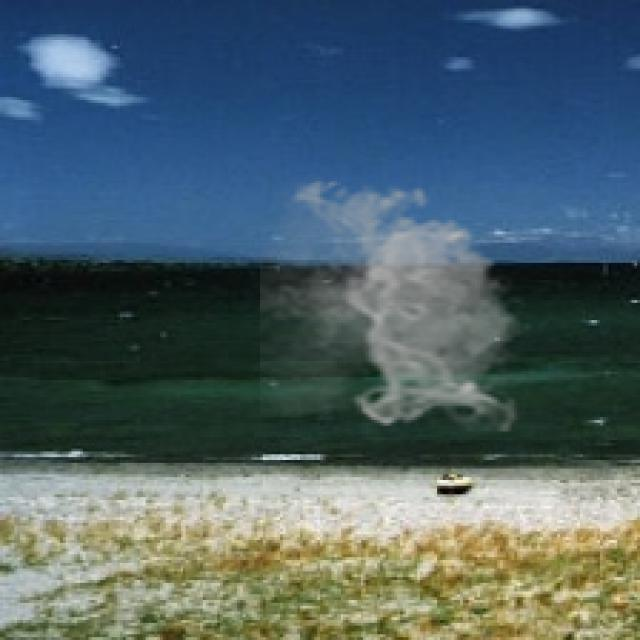smoke: (260, 172, 526, 432)
